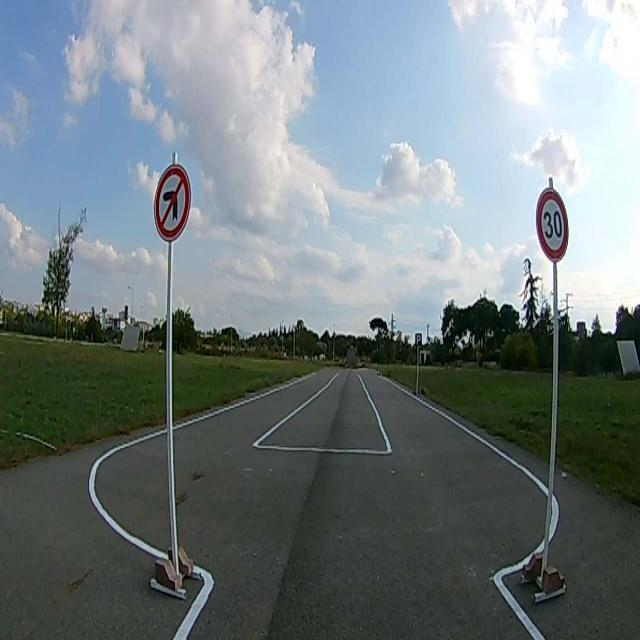30: (536, 188, 568, 259)
soladonulmez: (151, 166, 189, 238)
